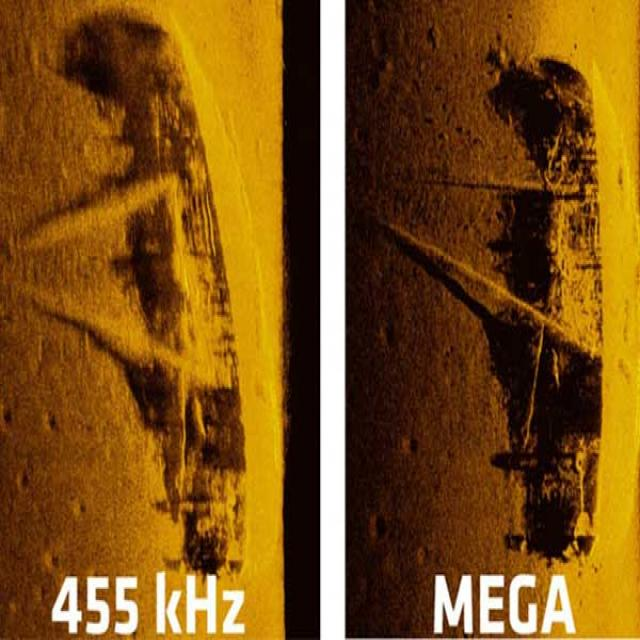ship: (23, 8, 250, 576), (390, 45, 606, 560)
